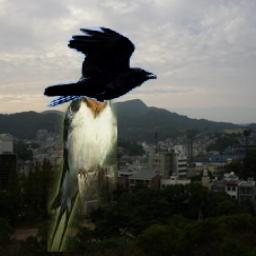Crow: (44, 27, 158, 109)
Swallow: (47, 71, 117, 252)
